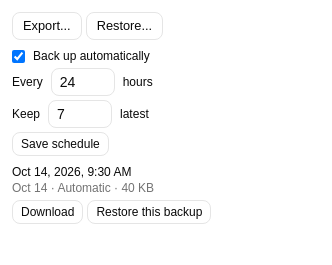
BackupPanel › downloads a listed backup by name
Click the button with aria-label "Download backup from": (48, 212) [12,200,83,224]
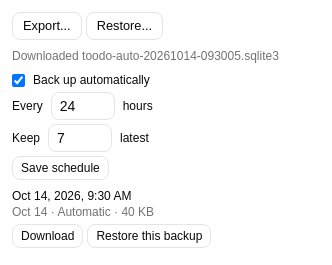
Check: the message reads "Downloaded toodo-auto-20261014-093005.sqlite3", box [12,49,279,63]
